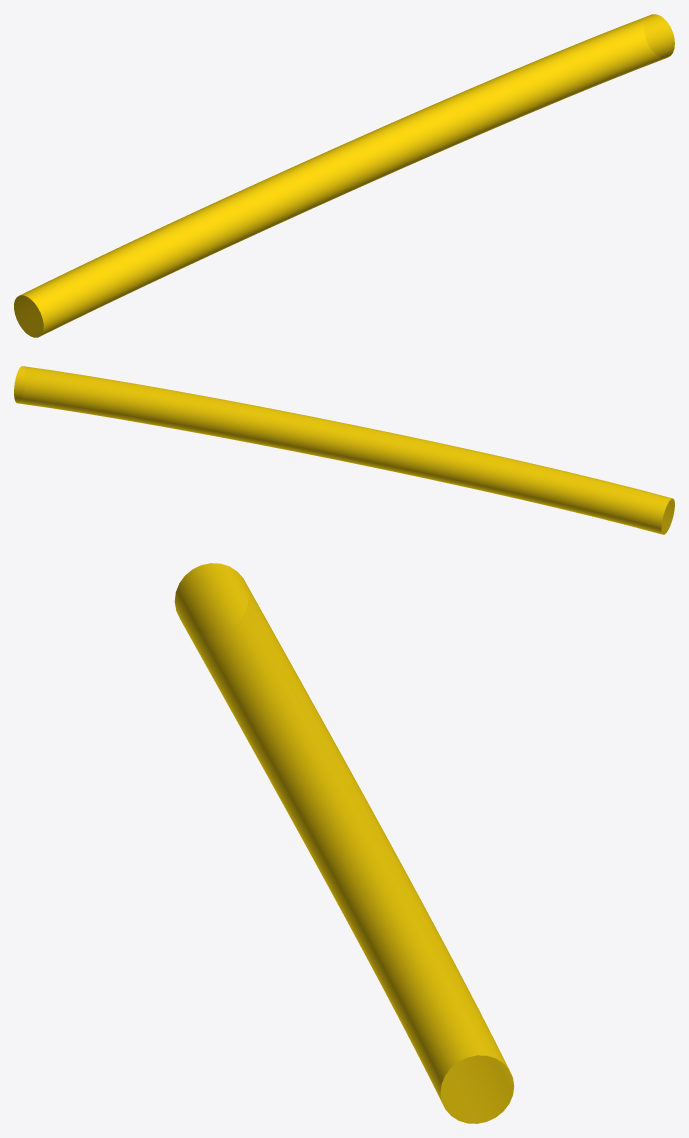
Rendered from Event_421115418_track_160.fbx.
3 renders of one model, top to bottom at view 1: azimuth 30°, elevation 25°; view 2: azimuth 150°, elevation 25°; view 3: azimuth 270°, elevation 25°, orthographic. The views are drawn at different scales.
Parts seen in each view (by area): view 1: Model; view 2: Model; view 3: Model.
Boxes of the visible parts, x1,y1,x2,y2 form: Model: (14, 14, 674, 337); Model: (14, 366, 674, 534); Model: (174, 563, 514, 1123).
Bounding box in the file's own units: 0.7216 × 0.0851 × 0.1802.
